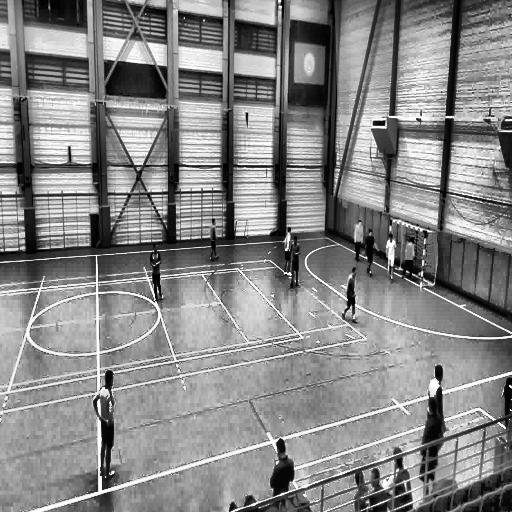ball: (416, 270, 422, 278)
player: (94, 366, 120, 481), (420, 398, 445, 501), (343, 266, 357, 322), (150, 243, 162, 302), (289, 236, 301, 288), (364, 230, 376, 276), (386, 232, 397, 280), (403, 236, 415, 280), (354, 220, 363, 263), (210, 220, 218, 261)
